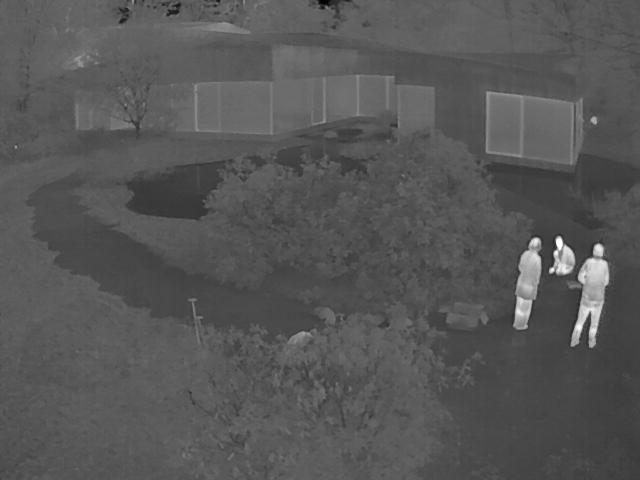person: (578, 242, 611, 349), (514, 237, 543, 329), (552, 231, 577, 273)
